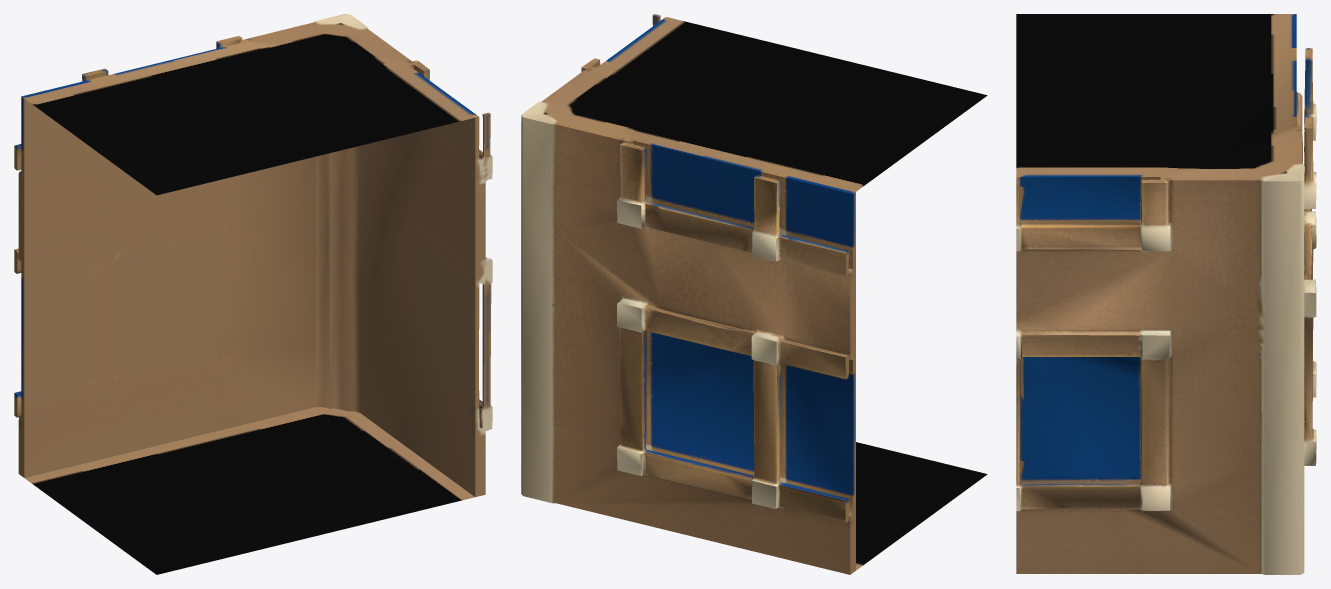
Rendered from 8-upper-walls-back-right.fbx.
3 renders of one model, left to right at view 1: azimuth 30°, elevation 25°; view 2: azimuth 150°, elevation 25°; view 3: azimuth 270°, elevation 25°, orthographic. The views are drawn at different scales.
Parts seen in each view (by area): view 1: upper-walls-back-right; view 2: upper-walls-back-right; view 3: upper-walls-back-right.
Part boxes in pixels (box(x1,y1,x2,y2)): upper-walls-back-right: box(14, 14, 492, 574); upper-walls-back-right: box(521, 14, 987, 574); upper-walls-back-right: box(1016, 14, 1316, 574).
Size of the model in its own units: 5136 by 5542 by 3836.
1 material, 1 textured.
